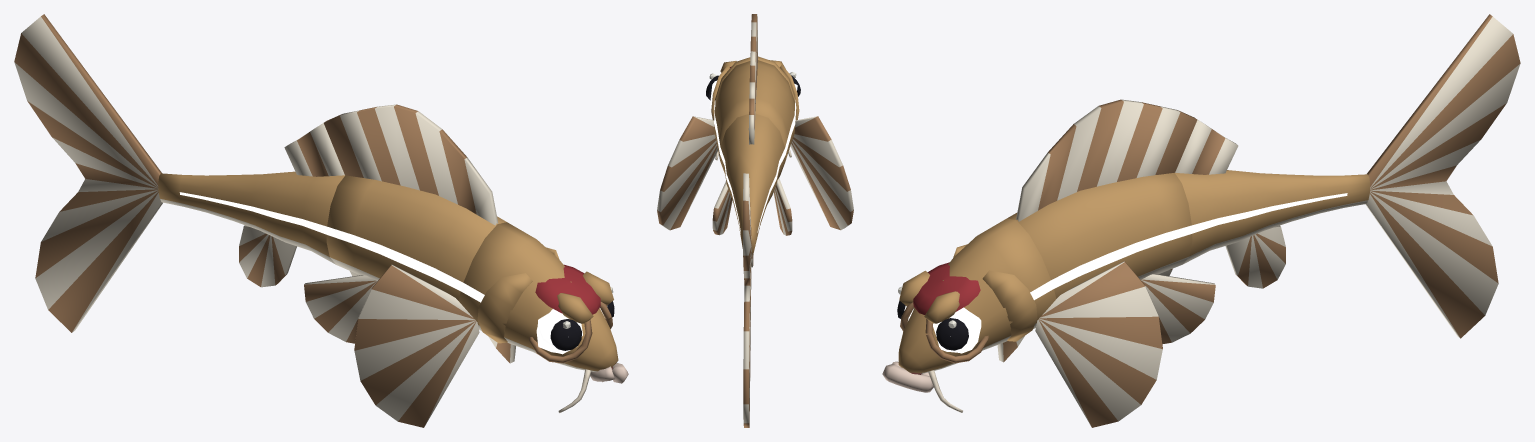
The model's file is carp-crane-crowned.glb.
3 views of the same model, side by side, from view 1: azimuth 30°, elevation 25°; view 2: azimuth 150°, elevation 25°; view 3: azimuth 270°, elevation 25° (orthographic). The views are drawn at different scales.
Visible parts, largest first — view 1: wag_body_0, wag_body_2, wag_body_1, glide_fin_r, carp_head, pulse_gill_r, blink_eye_r; view 2: wag_body_0, wag_body_1, glide_fin_r, glide_fin_l, wag_body_2, carp_head, pulse_gill_l, pulse_gill_r, blink_eye_l; view 3: wag_body_0, wag_body_2, wag_body_1, glide_fin_l, carp_head, pulse_gill_l, blink_eye_l.
Part boxes in pixels (x1=…): wag_body_0: x1=304, y1=104, x2=506, y2=343; wag_body_2: x1=14, y1=14, x2=162, y2=332; wag_body_1: x1=158, y1=123, x2=344, y2=287; glide_fin_r: x1=354, y1=264, x2=479, y2=427; carp_head: x1=458, y1=222, x2=628, y2=383; pulse_gill_r: x1=477, y1=273, x2=532, y2=343; blink_eye_r: x1=536, y1=309, x2=582, y2=354; wag_body_0: x1=712, y1=14, x2=795, y2=235; wag_body_1: x1=720, y1=82, x2=785, y2=267; glide_fin_r: x1=790, y1=116, x2=853, y2=230; glide_fin_l: x1=657, y1=116, x2=718, y2=230; wag_body_2: x1=743, y1=173, x2=751, y2=427; carp_head: x1=714, y1=56, x2=796, y2=116; pulse_gill_l: x1=711, y1=65, x2=729, y2=120; pulse_gill_r: x1=780, y1=64, x2=799, y2=120; blink_eye_l: x1=706, y1=73, x2=718, y2=108; wag_body_0: x1=1007, y1=99, x2=1215, y2=344; wag_body_2: x1=1365, y1=14, x2=1520, y2=338; wag_body_1: x1=1175, y1=119, x2=1369, y2=288; glide_fin_l: x1=1035, y1=261, x2=1162, y2=427; carp_head: x1=882, y1=218, x2=1055, y2=392; pulse_gill_l: x1=982, y1=270, x2=1037, y2=341; blink_eye_l: x1=933, y1=307, x2=981, y2=353.
Bounding box in the file's own units: 0.4673 × 0.4292 × 0.7885.
